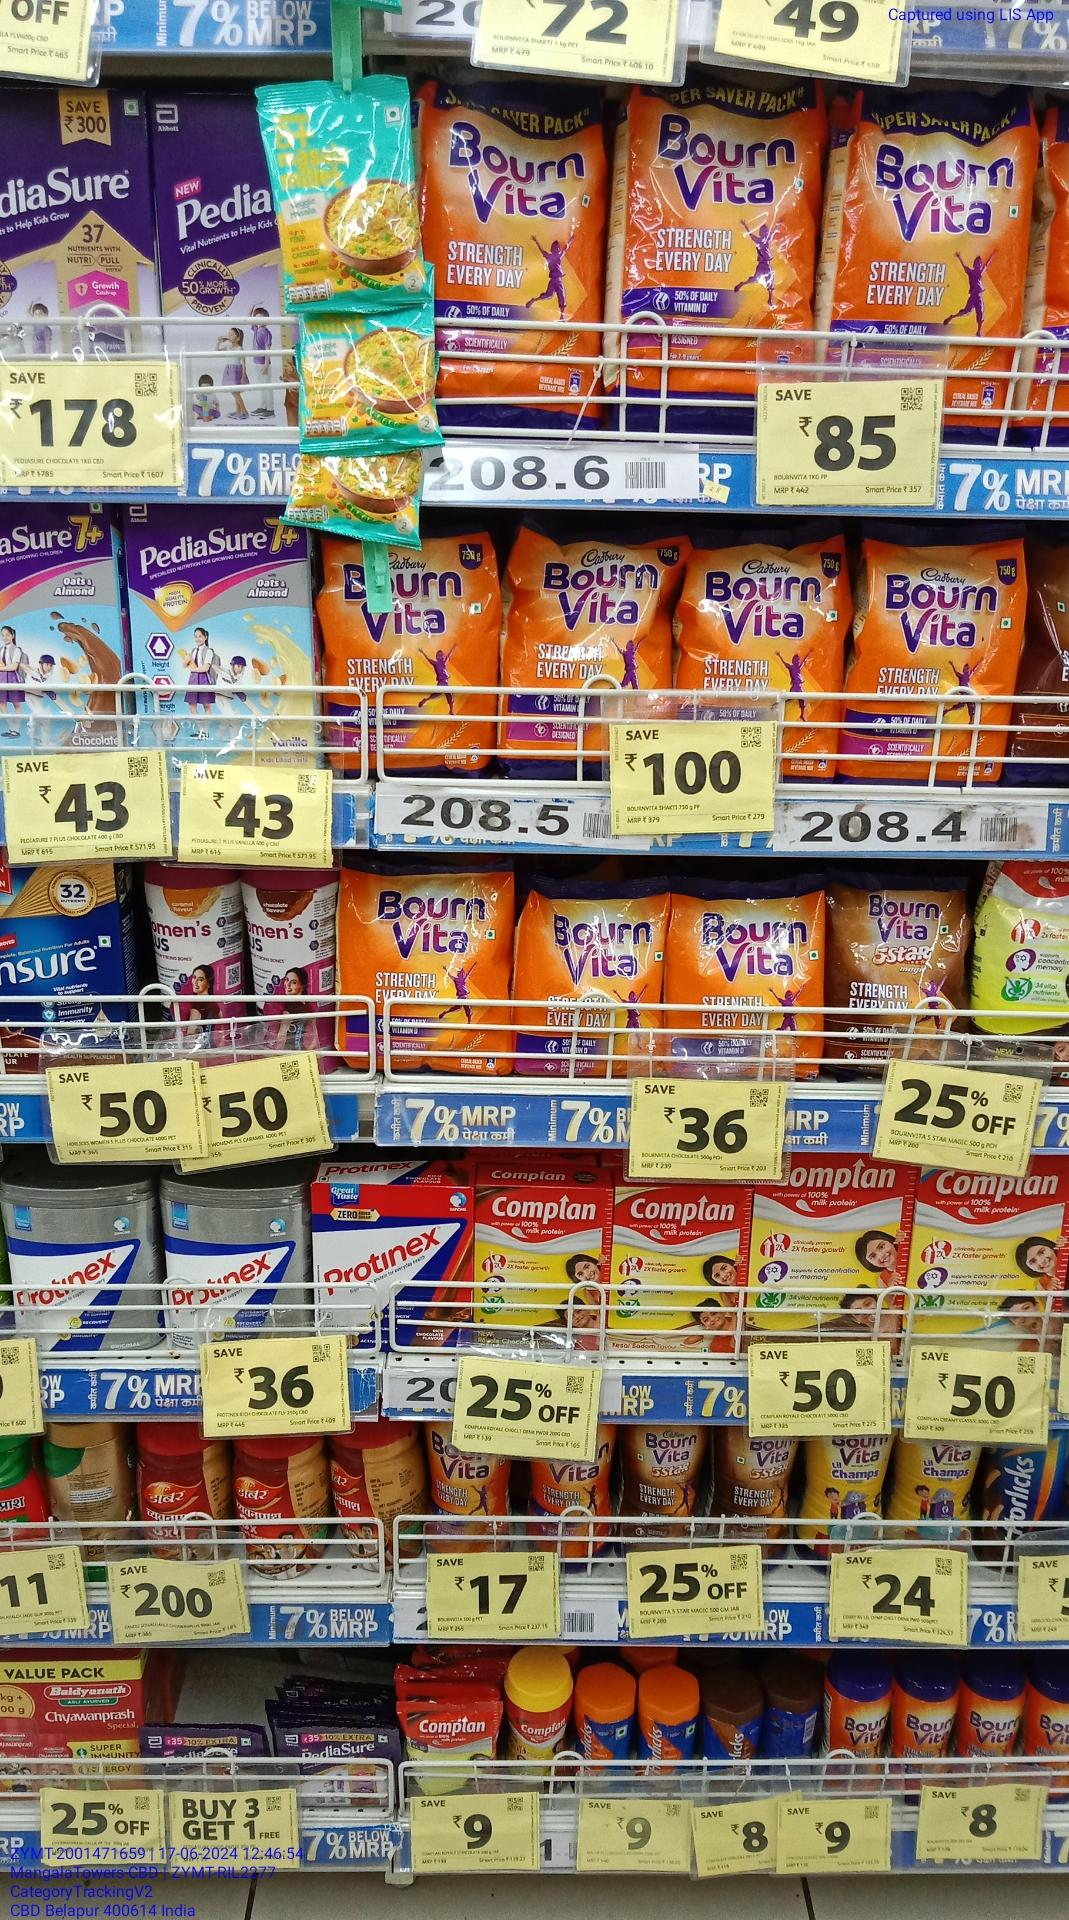BOURN_VITA_200_G_JAR: (832, 1679, 894, 1800), (904, 1683, 960, 1796), (961, 1687, 1022, 1788)
BOURN_VITA_CHAMPS_500_G_JAR: (808, 1438, 893, 1557), (904, 1436, 982, 1550)
BOURN_VITA_FIVE_STAR_MAGIC_500_G_JAR: (620, 1417, 704, 1548), (723, 1427, 795, 1570)
BOURN_VITA_FIVE_STAR_MAGIC_500_G_POUCH: (831, 888, 969, 1070)
COMPLAN_CHOCOLATE_200_GMS_JAR: (509, 1690, 566, 1783)
COMPLAN_CHOCOLATE_200_GMS_PACK: (474, 1184, 604, 1352)
COMPLAN_CHOCOLATE_500_GMS_PACK: (754, 1150, 904, 1352)
COMPLAN_CREAMY_CLASSIC_500_G_PACK: (918, 1159, 1069, 1359)
COMPLAN_KESAR_BADAM_200_GMS_PACK: (610, 1190, 744, 1358)
HORLICK_CHOCOLATE_200_G_JAR: (703, 1707, 765, 1803)
HORLICK_CLASSIC_MALT_200_G_JAR: (571, 1692, 623, 1792), (640, 1703, 687, 1790)
PEDIASURE_7_PLUS_CHOCOLATE_400_G_PACK: (0, 503, 120, 754)
PROTINEX_ORIGINAL_400_G_JAR: (0, 1184, 150, 1353), (166, 1179, 307, 1345)
